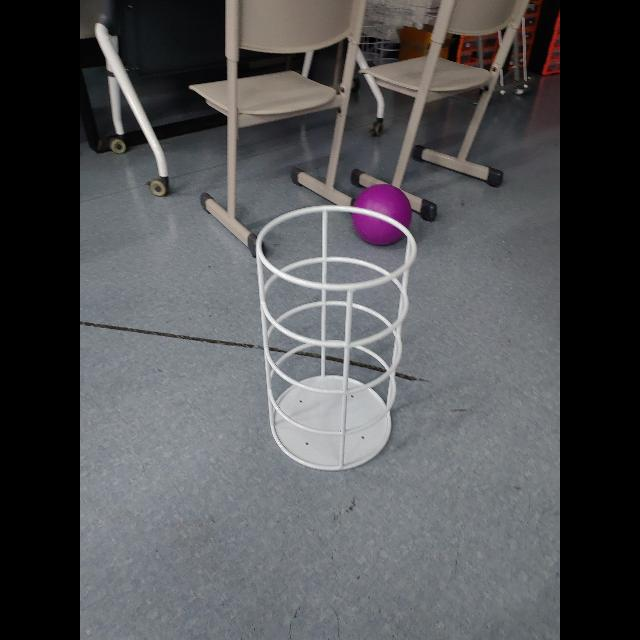S: (252, 203, 422, 477)
